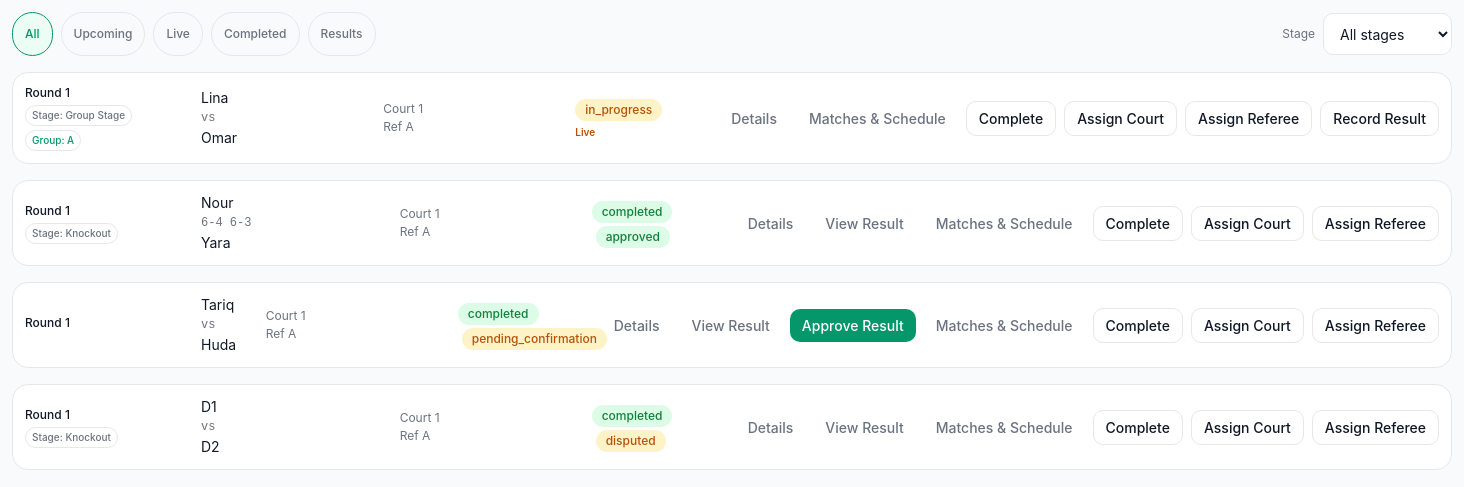
Test: Tournament Hub Results management (Step 3F) › 4. Approved filter shows only approved
The width and height of the screenshot is (1464, 487).
Click the button "Results": click(342, 34) [308,12,376,56]
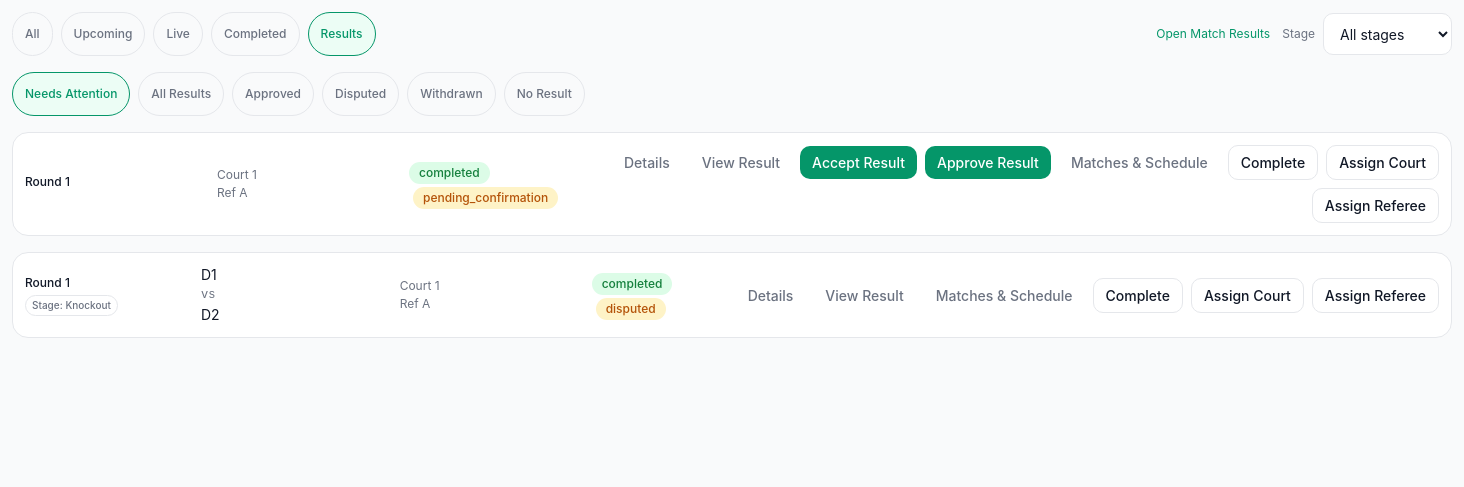
Click the button "Approved": click(273, 94) [232,72,314,116]
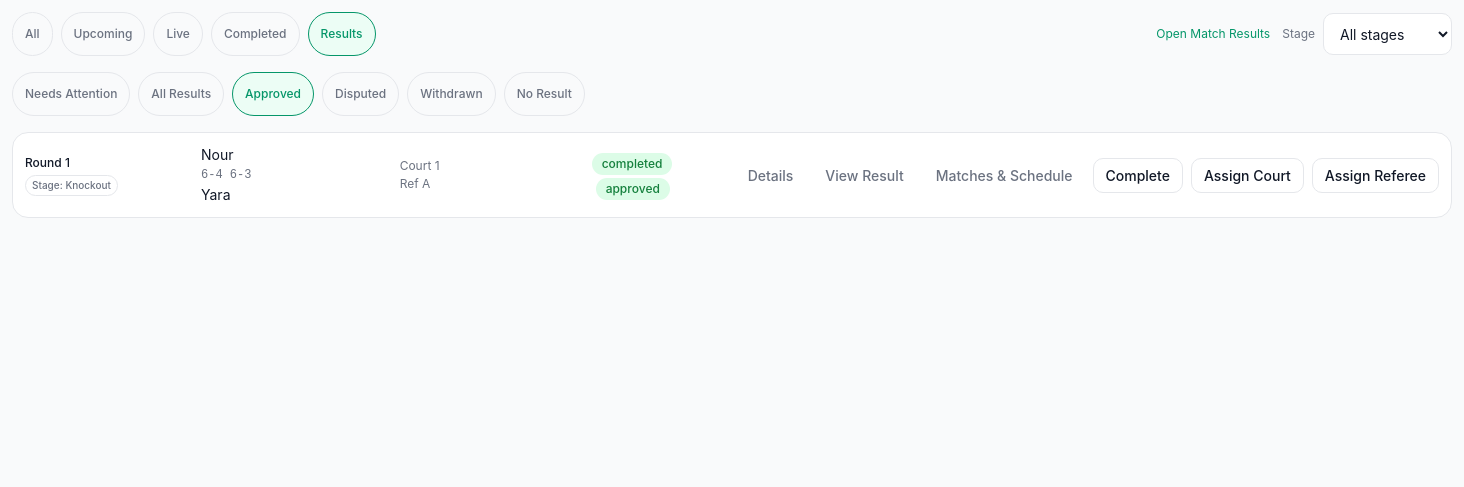
Expected: the text "Tariq" is not shown
Expected: the text "Nour" is shown, [201,146,234,163]
Expected: the text "D1" is gone
